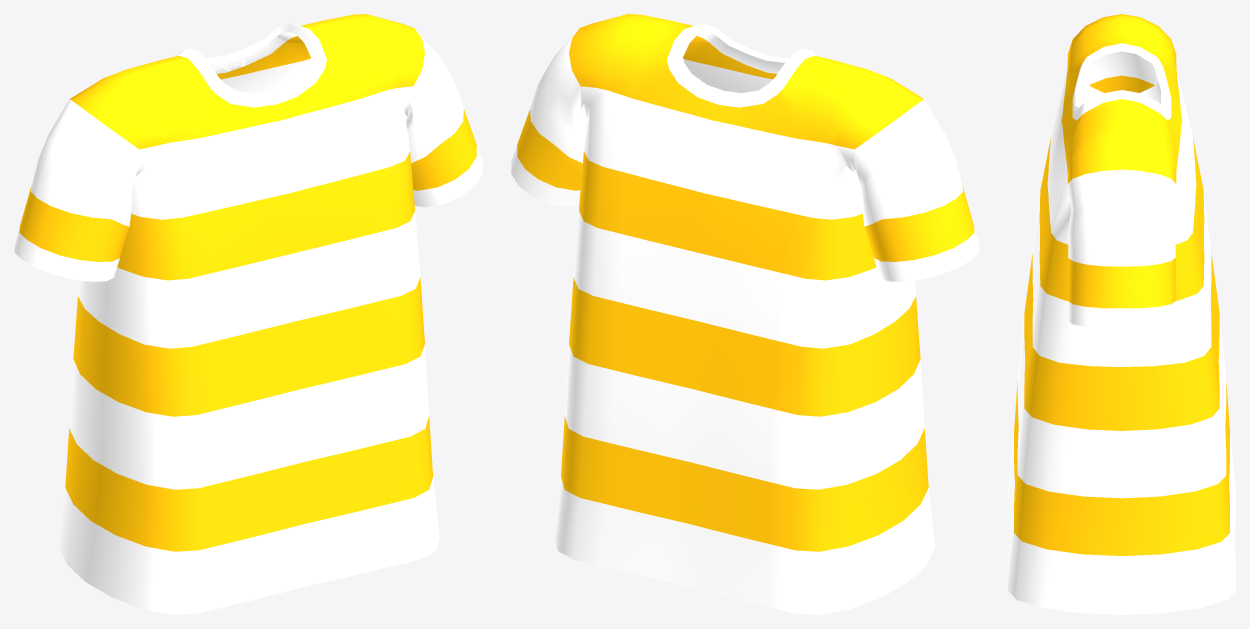
File: t_shirt.glb
3 renders of one model, left to right at view 1: azimuth 30°, elevation 25°; view 2: azimuth 150°, elevation 25°; view 3: azimuth 270°, elevation 25°, orthographic. The views are drawn at different scales.
Visible parts, largest first — view 1: Circle.1790; view 2: Circle.1790; view 3: Circle.1790.
Boxes of the visible parts, <box> form: Circle.1790: <box>14,14,482,614</box>; Circle.1790: <box>511,14,979,614</box>; Circle.1790: <box>1008,14,1235,614</box>.
Bounding box in the file's own units: 1.86 × 1.98 × 0.8618.
Materials: 1 (1 with a texture image).
